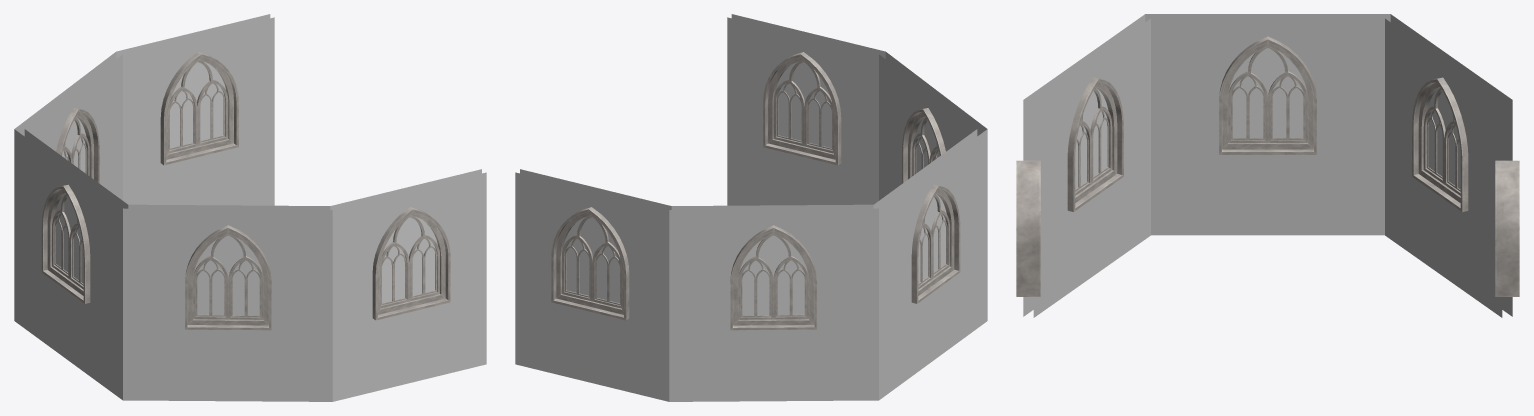
File: Ambulatory_Inner_A_A.fbx
3 renders of one model, left to right at view 1: azimuth 30°, elevation 25°; view 2: azimuth 150°, elevation 25°; view 3: azimuth 270°, elevation 25°, orthographic. The views are drawn at different scales.
Parts seen in each view (by area): view 1: Ambulatory_Inner_A_A; view 2: Ambulatory_Inner_A_A; view 3: Ambulatory_Inner_A_A.
Part boxes in pixels (x1=…): Ambulatory_Inner_A_A: x1=14, y1=14, x2=486, y2=401; Ambulatory_Inner_A_A: x1=515, y1=14, x2=987, y2=401; Ambulatory_Inner_A_A: x1=1016, y1=14, x2=1519, y2=317.
Bounding box in the file's own units: 10.31 × 12.61 × 6.
